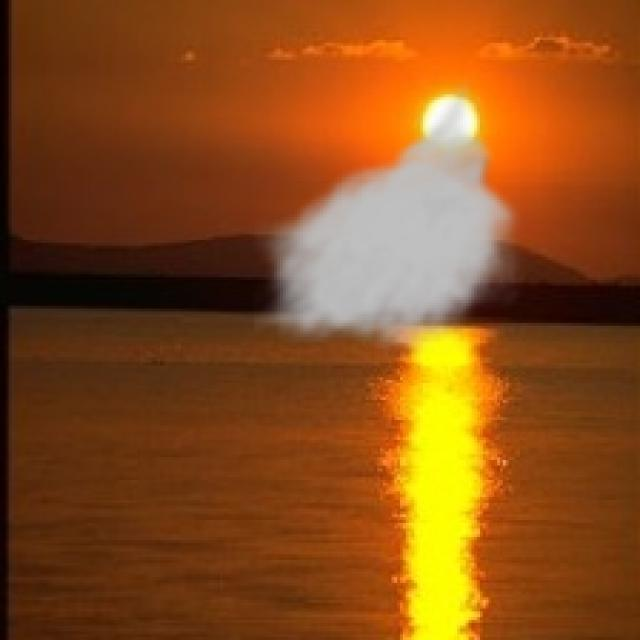Smoke: (251, 77, 526, 354)
